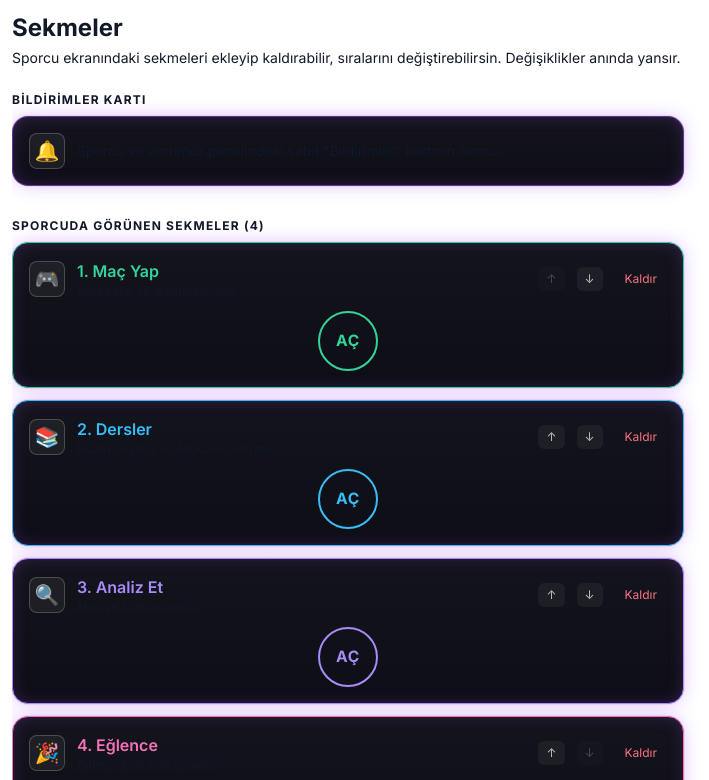
Test: Admin Sekmeler — akordiyon › KAPAT tıklanınca içerik kapanır
Click the button with aria-label "Dersler sekmesini aç".
click(348, 499)  # box [318,469,378,529]
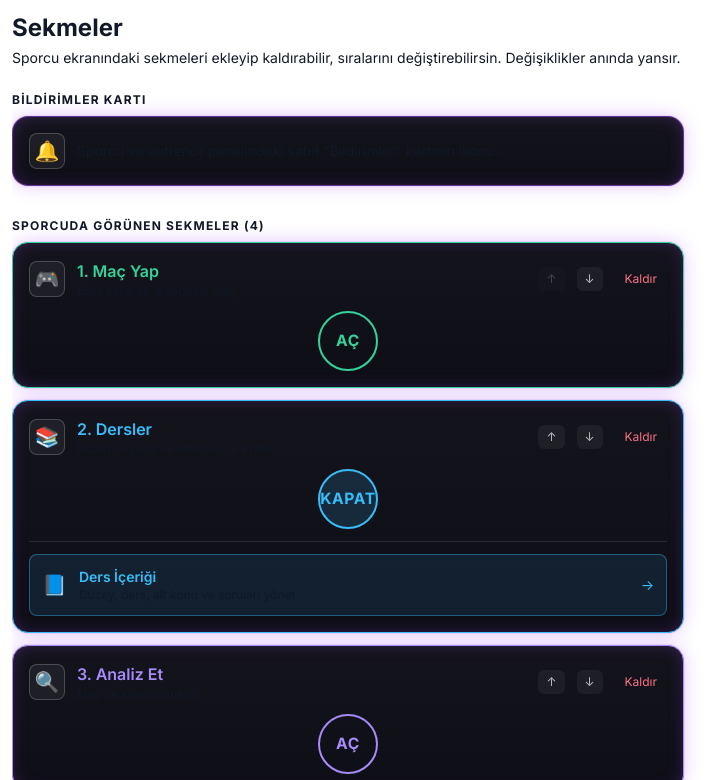
Click the button with aria-label "Dersler sekmesini kapat".
click(348, 499)  # box [318,469,378,529]
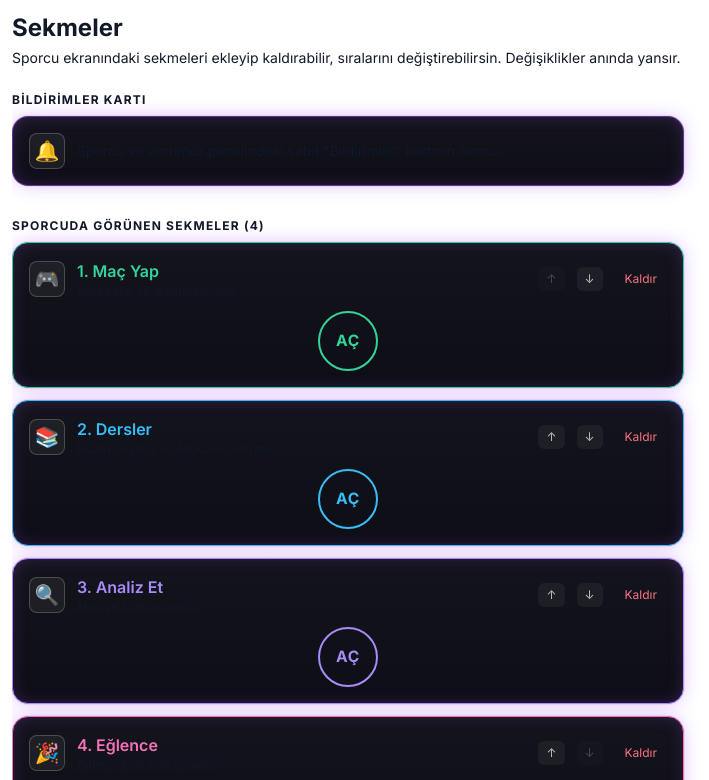
Now the link "Ders İçeriği" is gone
